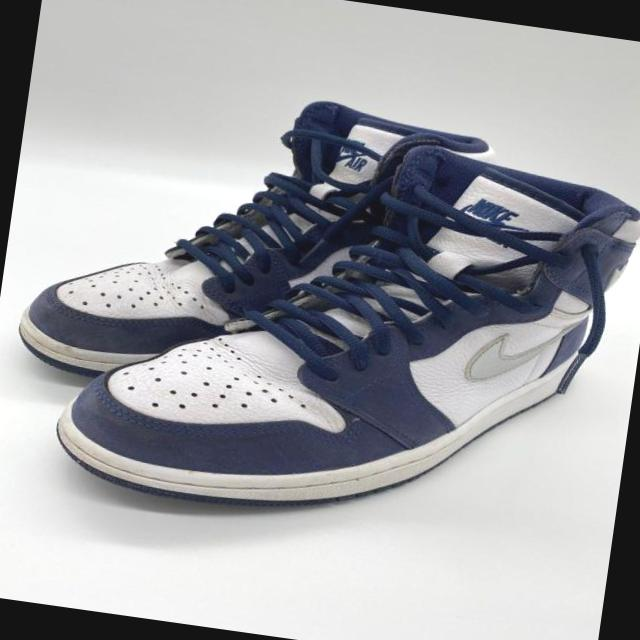nike_original_jordan: (38, 100, 640, 561), (9, 62, 506, 433)
